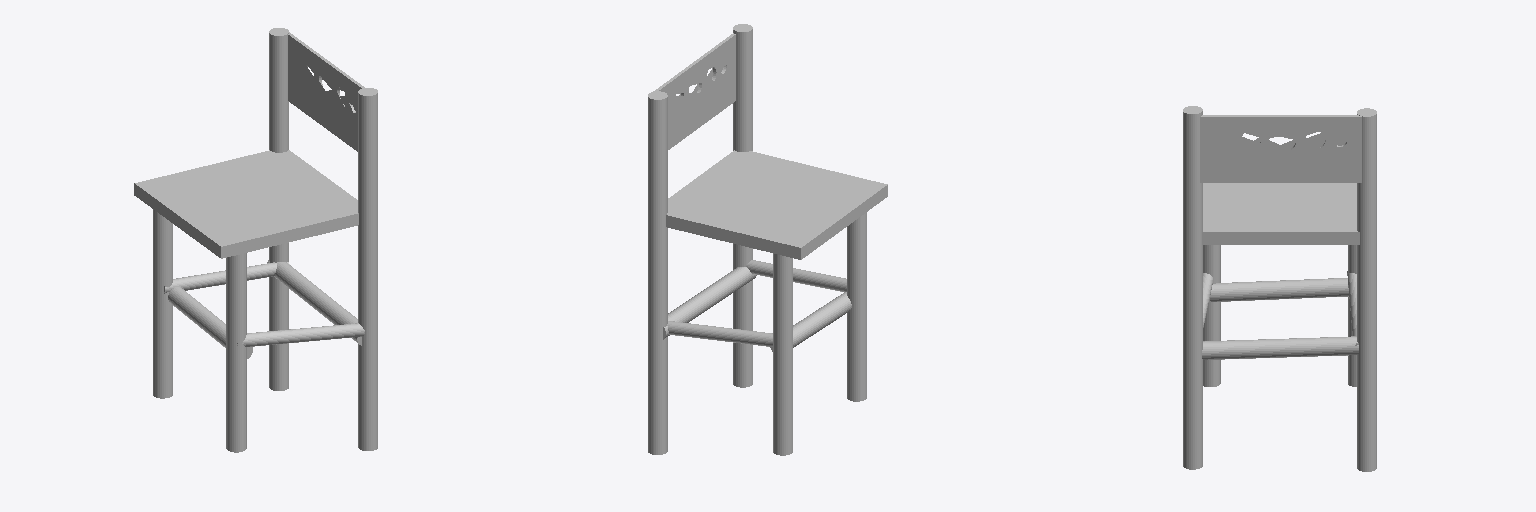
Rendered from starbucks chair.obj.
3 views of the same model, side by side, from view 1: azimuth 30°, elevation 25°; view 2: azimuth 150°, elevation 25°; view 3: azimuth 270°, elevation 25° (orthographic).
Visible parts, largest first — view 1: Cube_Cube.001; view 2: Cube_Cube.001; view 3: Cube_Cube.001.
Boxes of the visible parts, x1=… form: Cube_Cube.001: x1=134, y1=28, x2=377, y2=452; Cube_Cube.001: x1=648, y1=24, x2=887, y2=455; Cube_Cube.001: x1=1183, y1=106, x2=1376, y2=471.
Bounding box in the file's own units: 3.92 × 8.69 × 4.27.